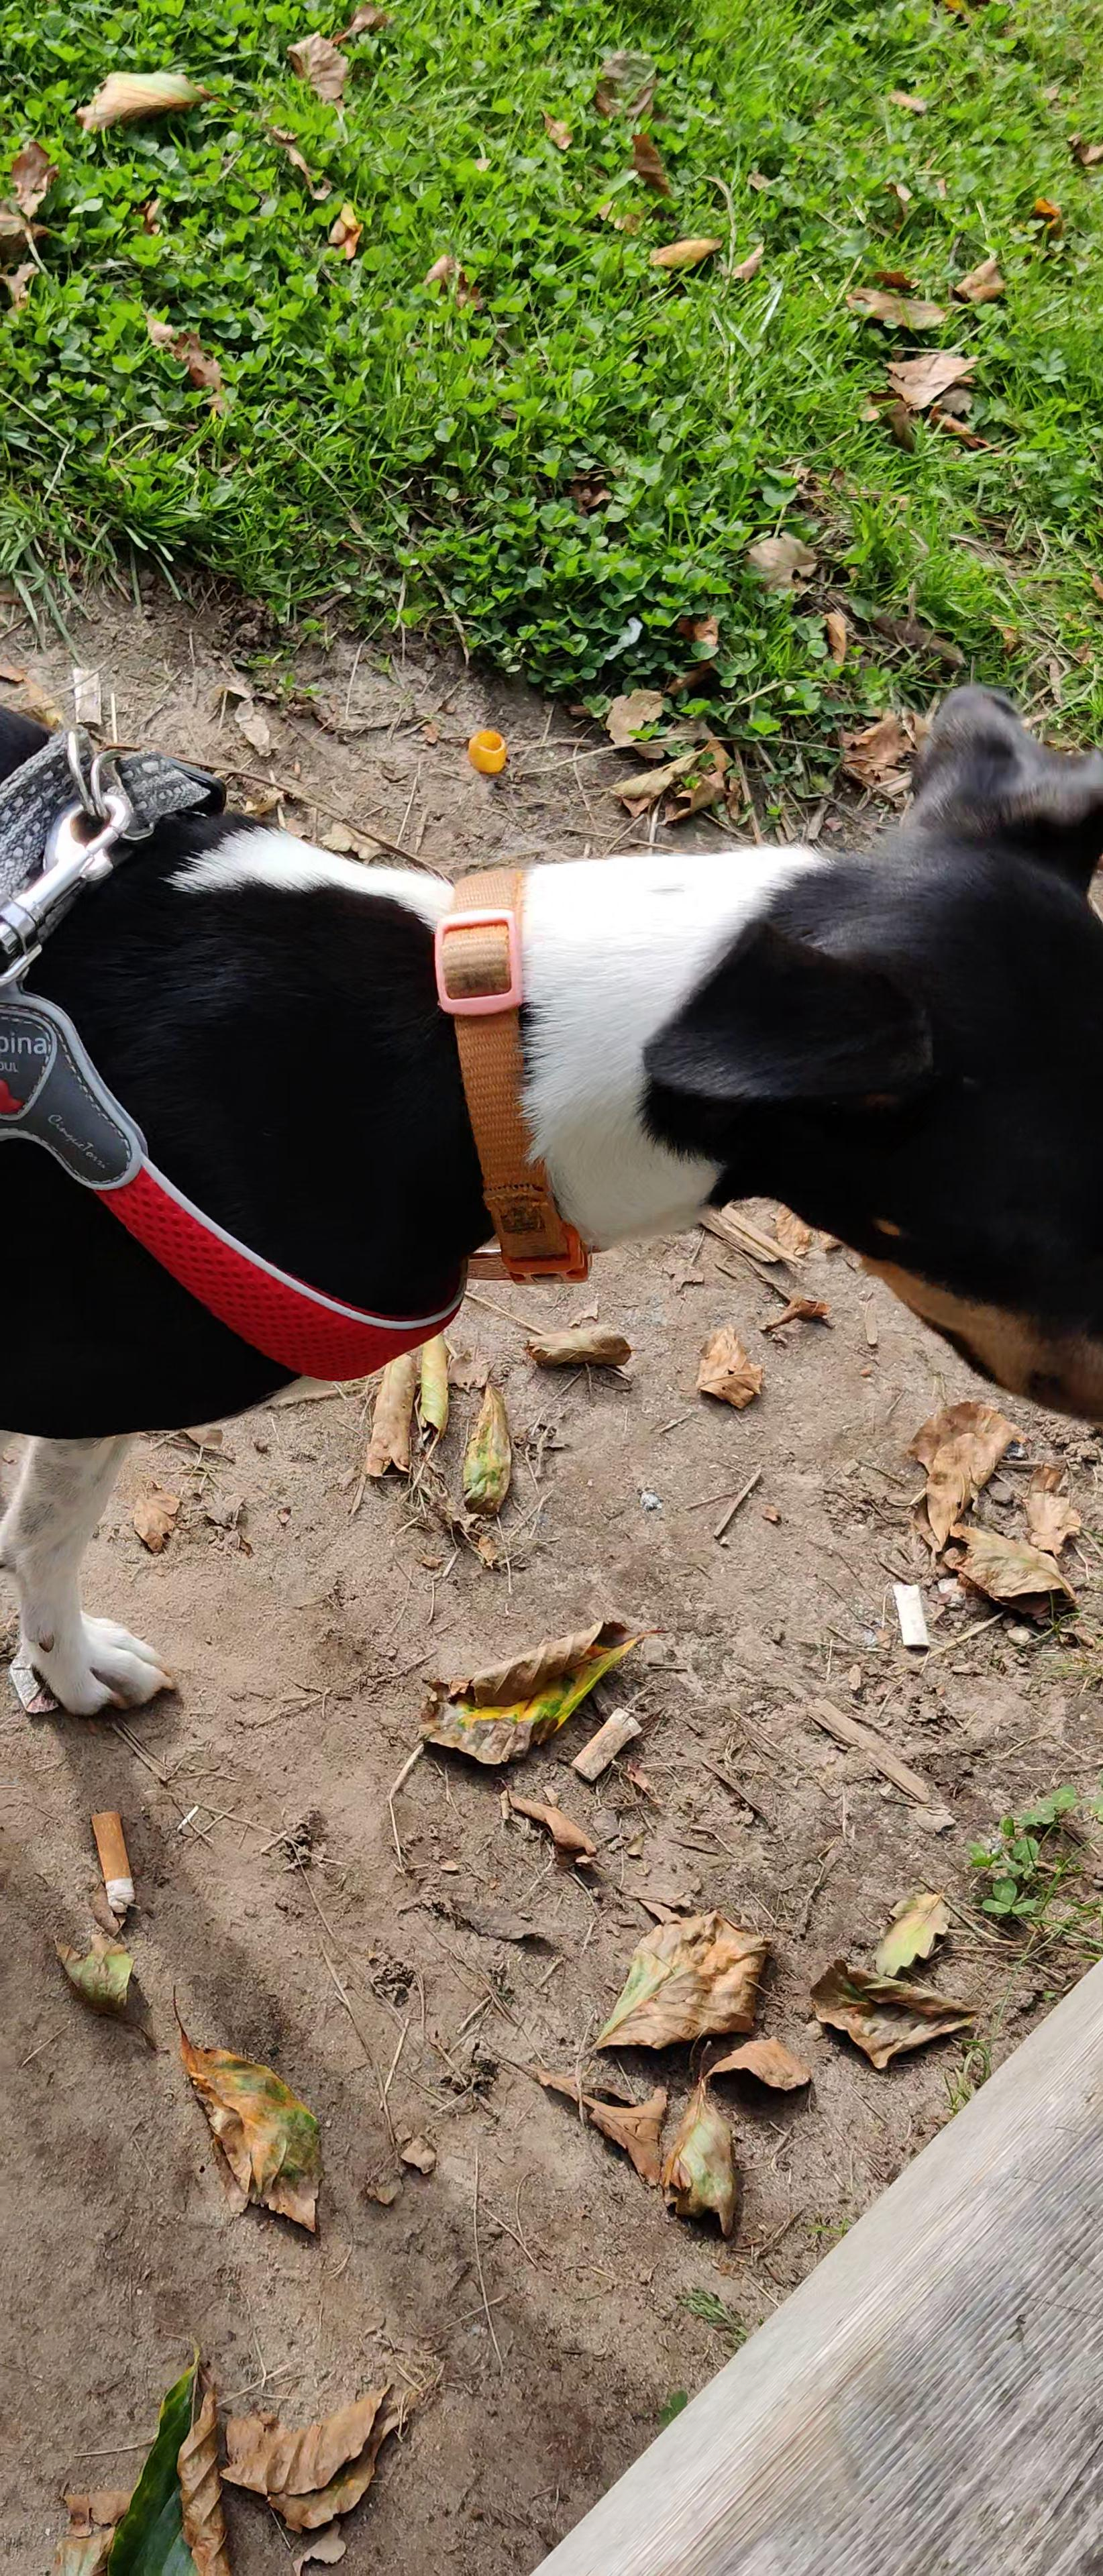Dog: (0, 678, 1103, 1733)
